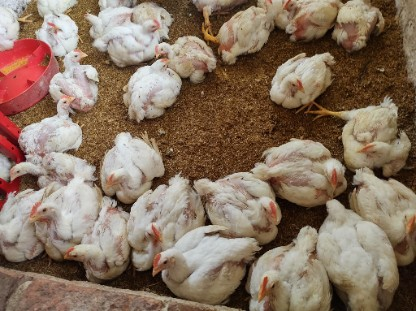Pollos: (315, 200, 401, 309), (152, 229, 260, 301), (127, 181, 212, 272), (249, 226, 332, 311), (257, 135, 345, 206), (28, 181, 100, 260), (337, 100, 414, 172), (199, 172, 279, 240), (65, 210, 139, 279), (366, 170, 416, 267), (270, 44, 339, 109), (99, 131, 165, 197), (212, 0, 277, 58), (18, 95, 81, 152), (124, 60, 182, 121), (0, 190, 44, 267), (154, 35, 219, 83), (6, 152, 94, 187), (51, 50, 102, 108), (105, 15, 161, 67), (339, 0, 385, 55), (282, 0, 336, 43), (80, 5, 122, 45), (39, 14, 78, 54)
